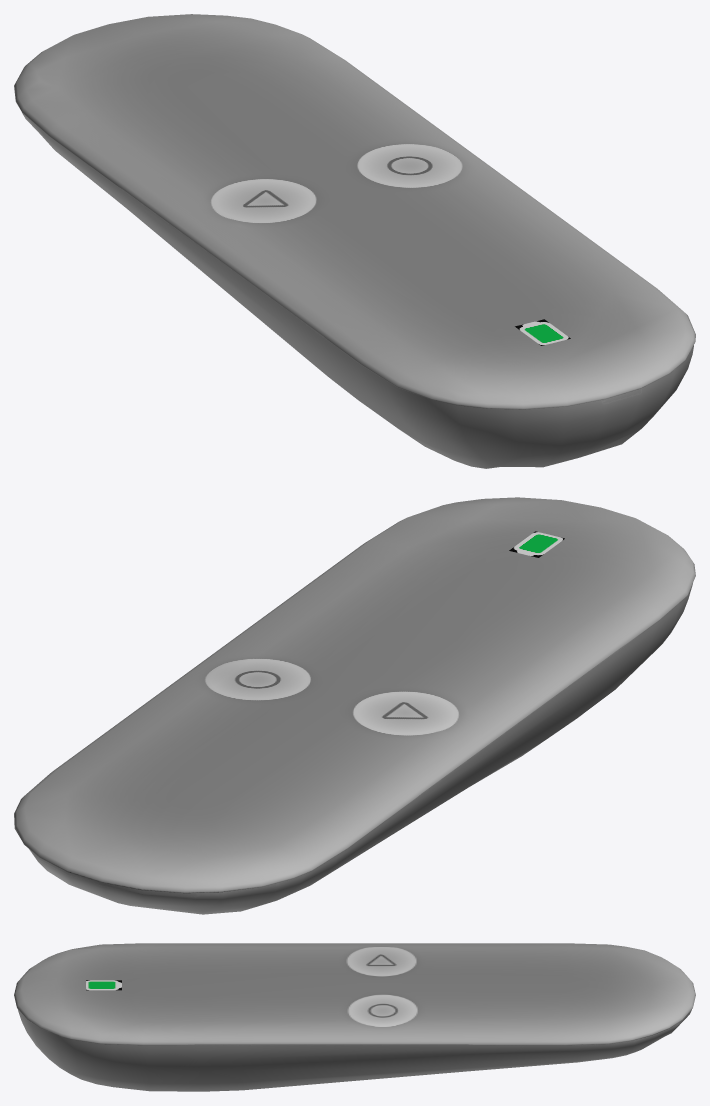
Rendered from handle_L.FBX.
3 views of the same model, one above another, from view 1: azimuth 30°, elevation 25°; view 2: azimuth 150°, elevation 25°; view 3: azimuth 270°, elevation 25° (orthographic). The views are drawn at different scales.
Parts seen in each view (by area): view 1: handle_L, v1电量; view 2: handle_L, v1电量; view 3: handle_L, v1电量.
Part boxes in pixels (x1,y1,x2,y2): handle_L: [14, 14, 695, 468]; v1电量: [515, 319, 570, 345]; handle_L: [14, 497, 695, 914]; v1电量: [509, 531, 564, 557]; handle_L: [14, 943, 695, 1091]; v1电量: [86, 980, 121, 990].
Bounding box in the file's own units: 3.95 × 11.53 × 1.49.
